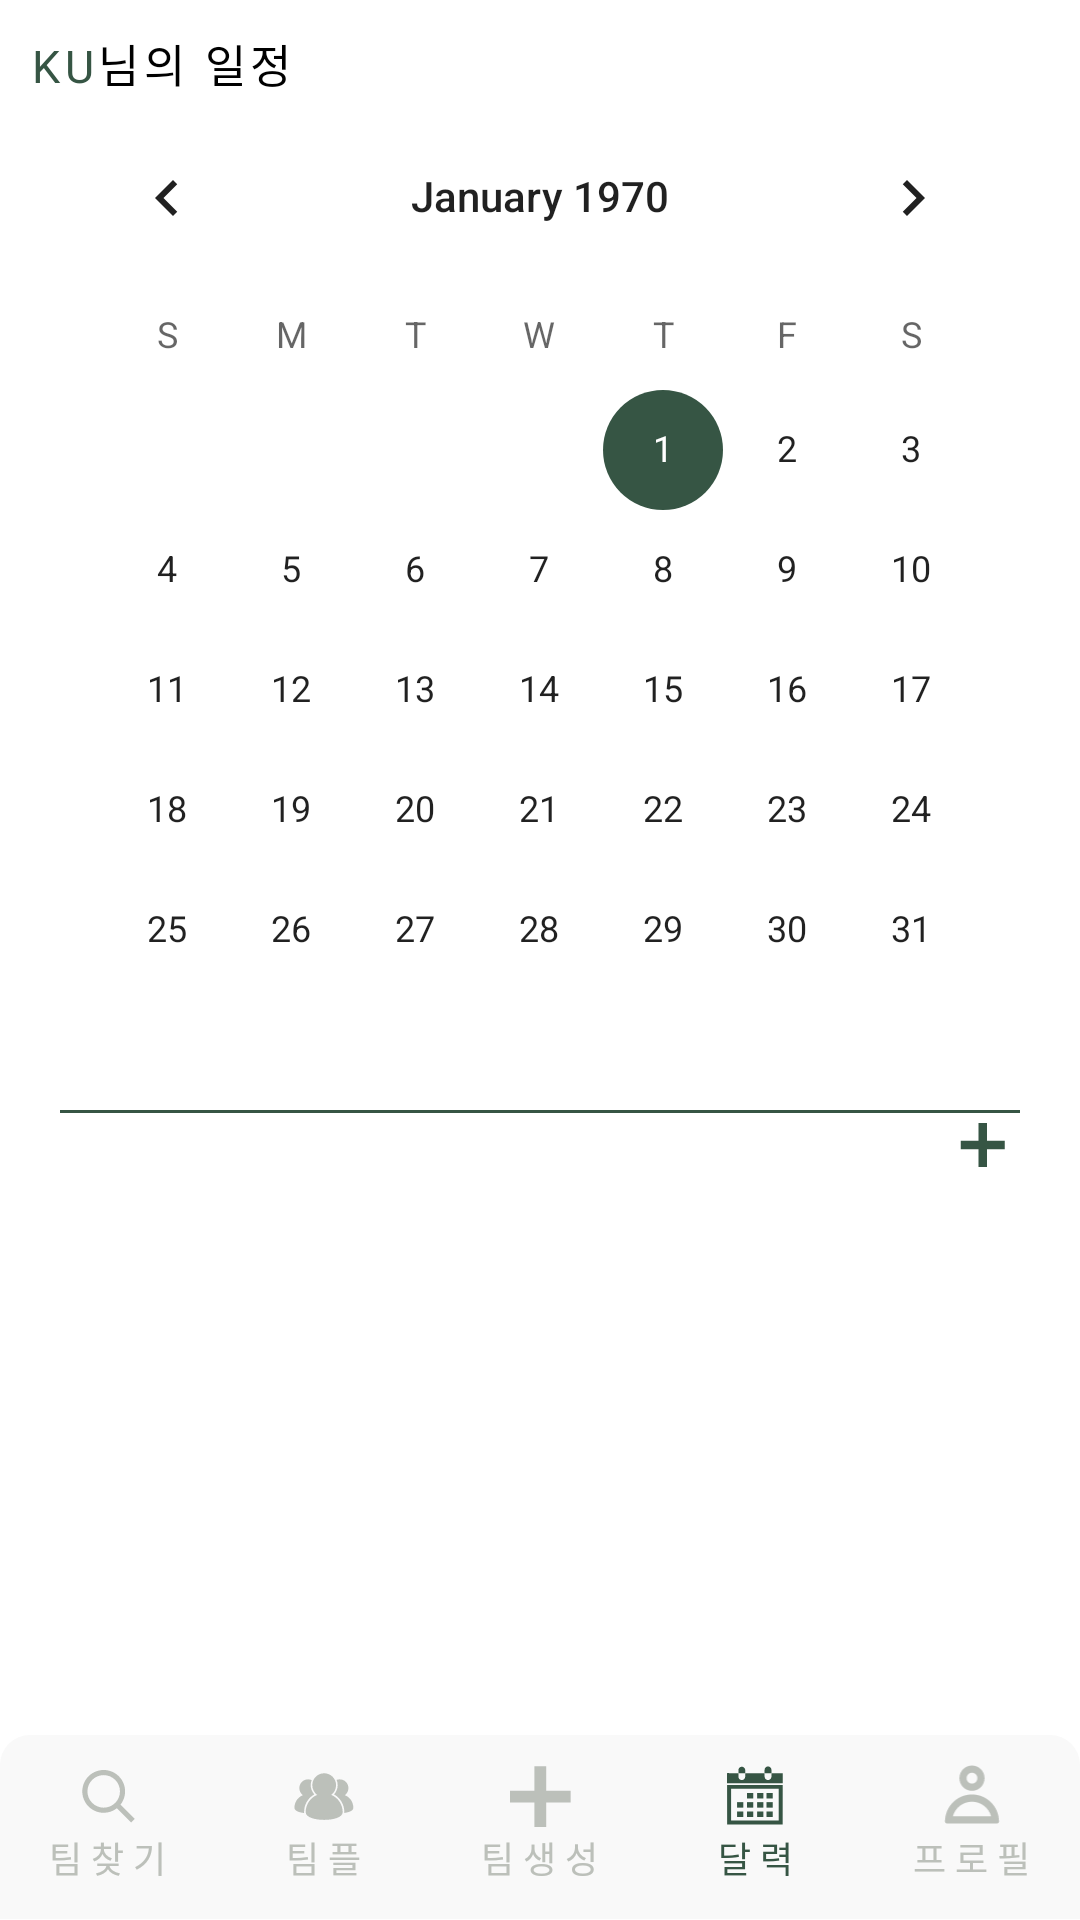

Named icons in this screenshot (1080×1920) and their bounding boxes, (x1=x1, y1=y1, x2=x2, y2=y2):
plus: (x1=960, y1=1123, x2=1005, y2=1167), (x1=510, y1=1766, x2=571, y2=1827)
